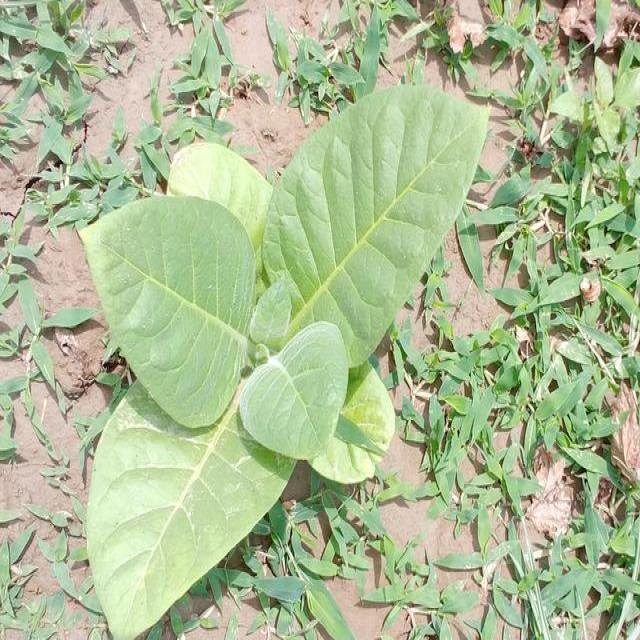crop: (78, 85, 485, 640)
